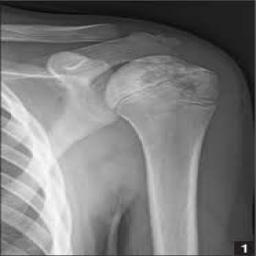cancer: (122, 56, 220, 117)
